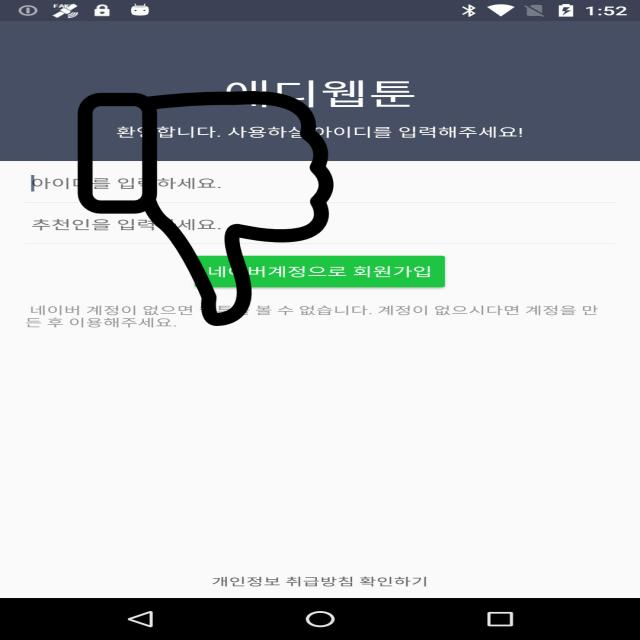obstruction: (74, 91, 337, 326)
